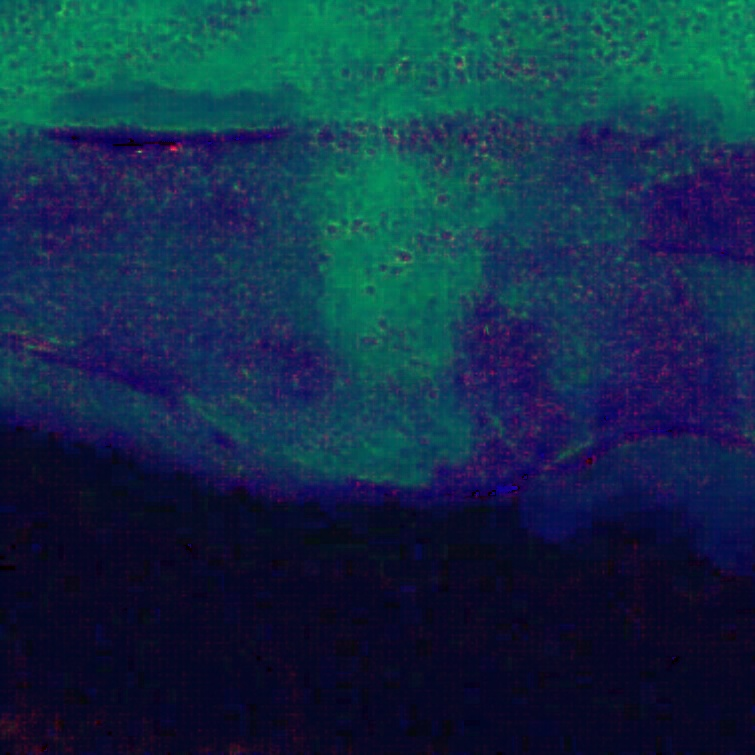rip_current: (276, 53, 549, 484)
